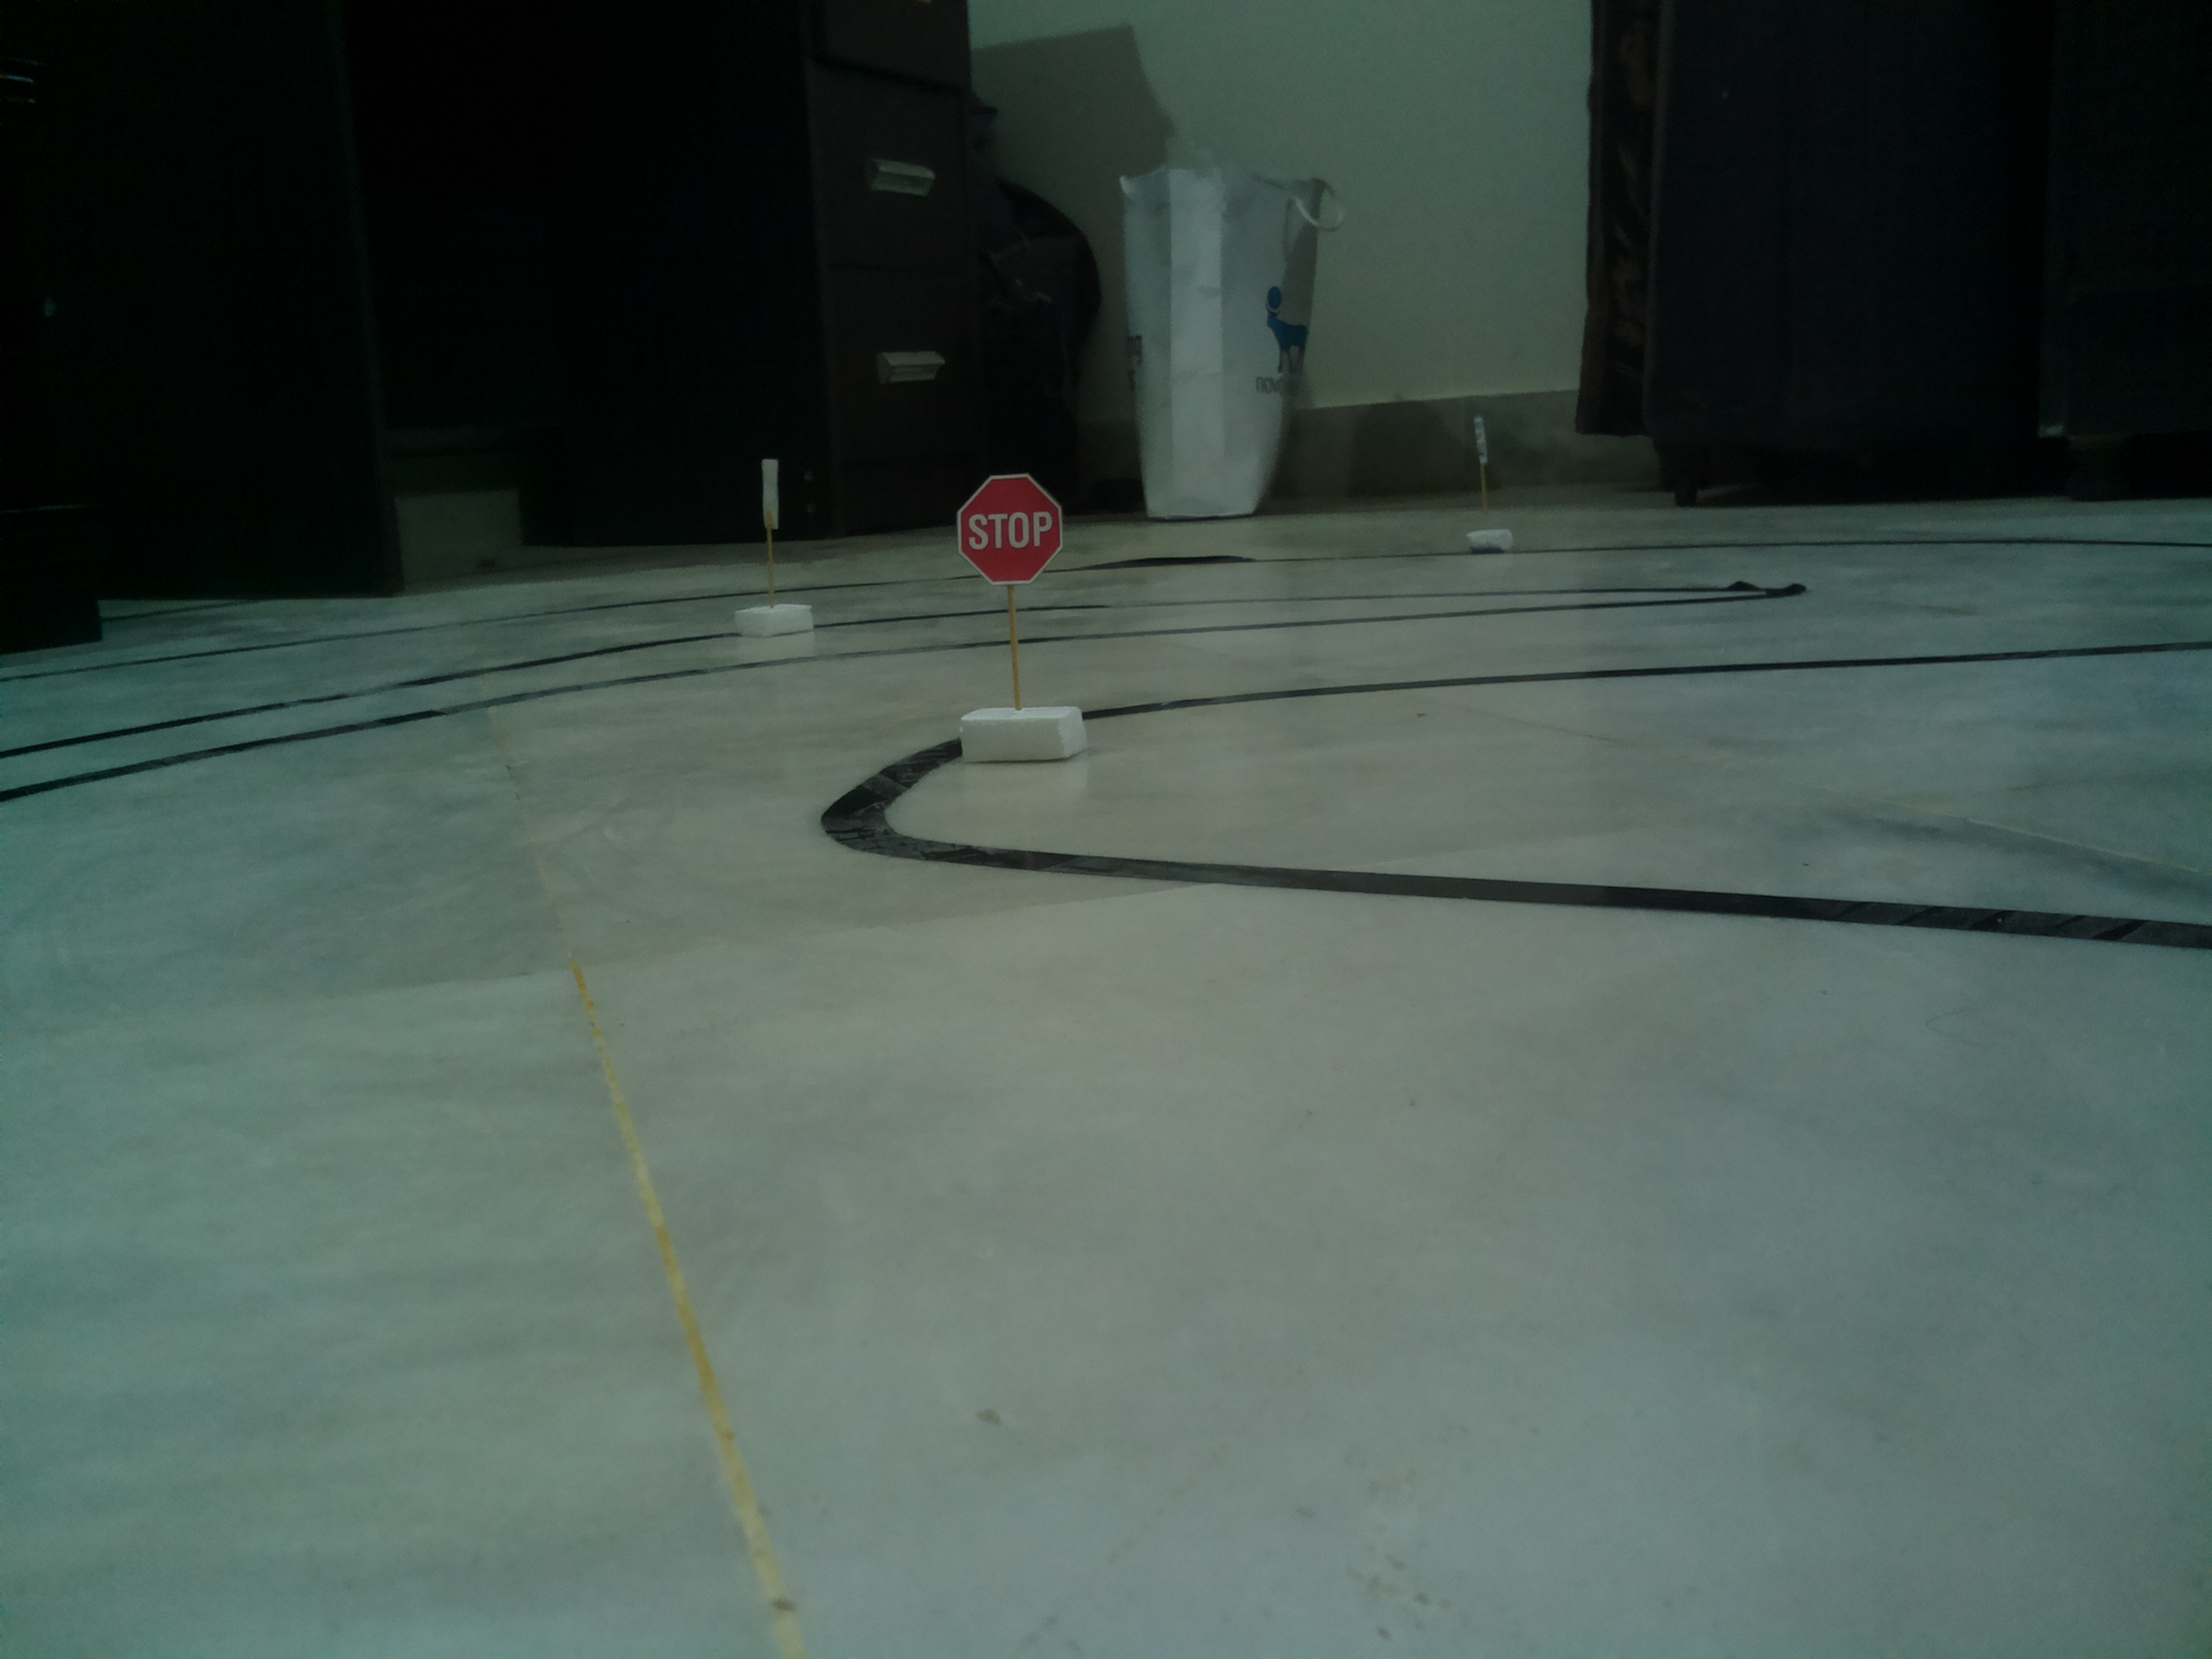Stop sign: (956, 472, 1064, 584)
